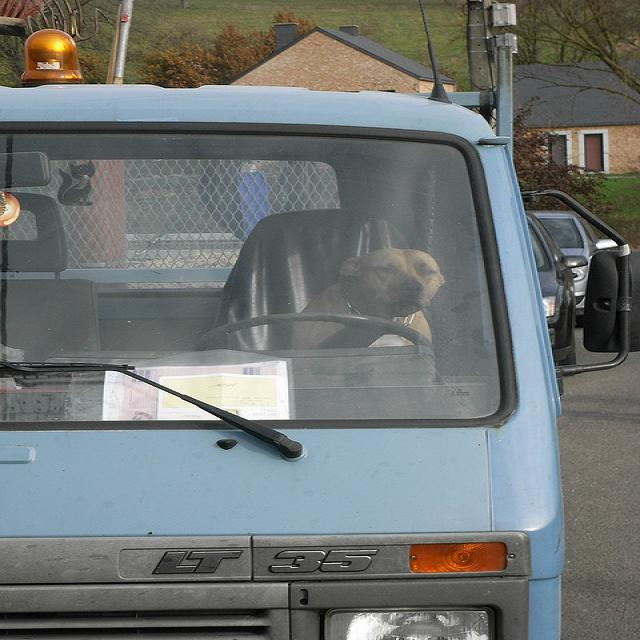Vehicle: (0, 27, 568, 631), (0, 116, 563, 637), (528, 213, 588, 368), (526, 211, 600, 322)
